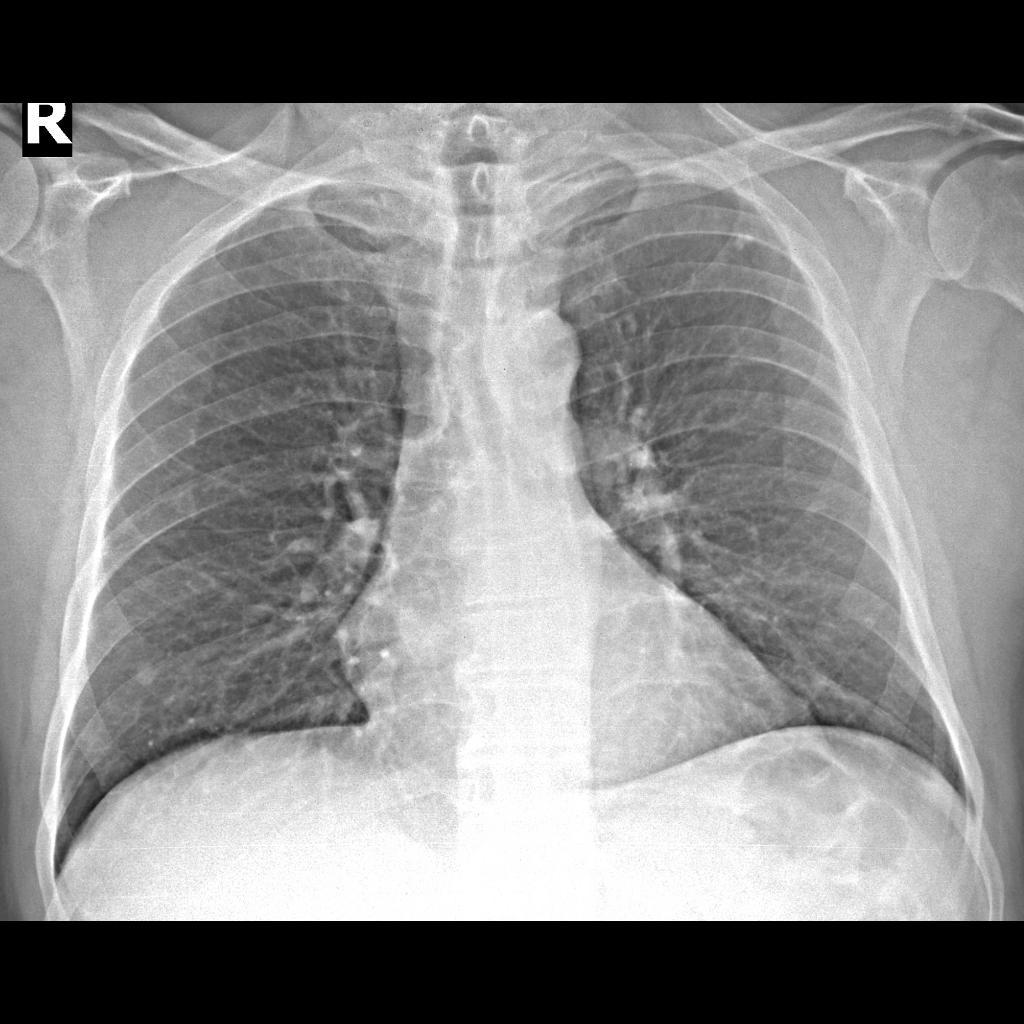Nodule: (129, 656, 165, 692)
